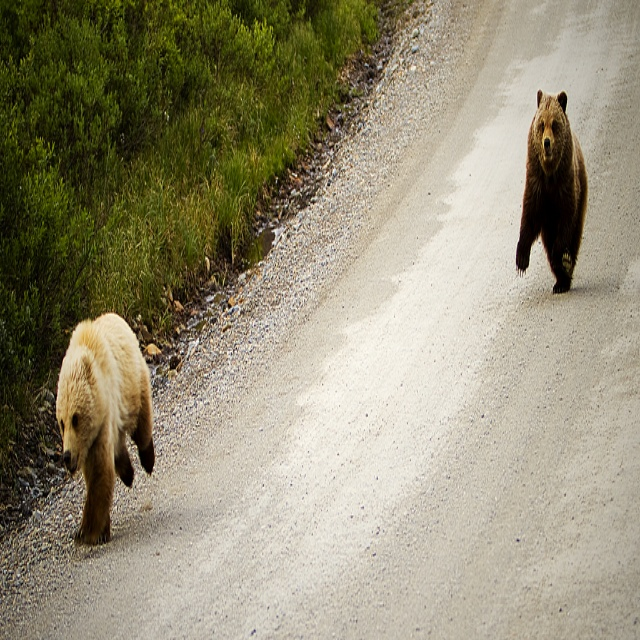Brown bear: (55, 308, 155, 546), (515, 86, 589, 295)
